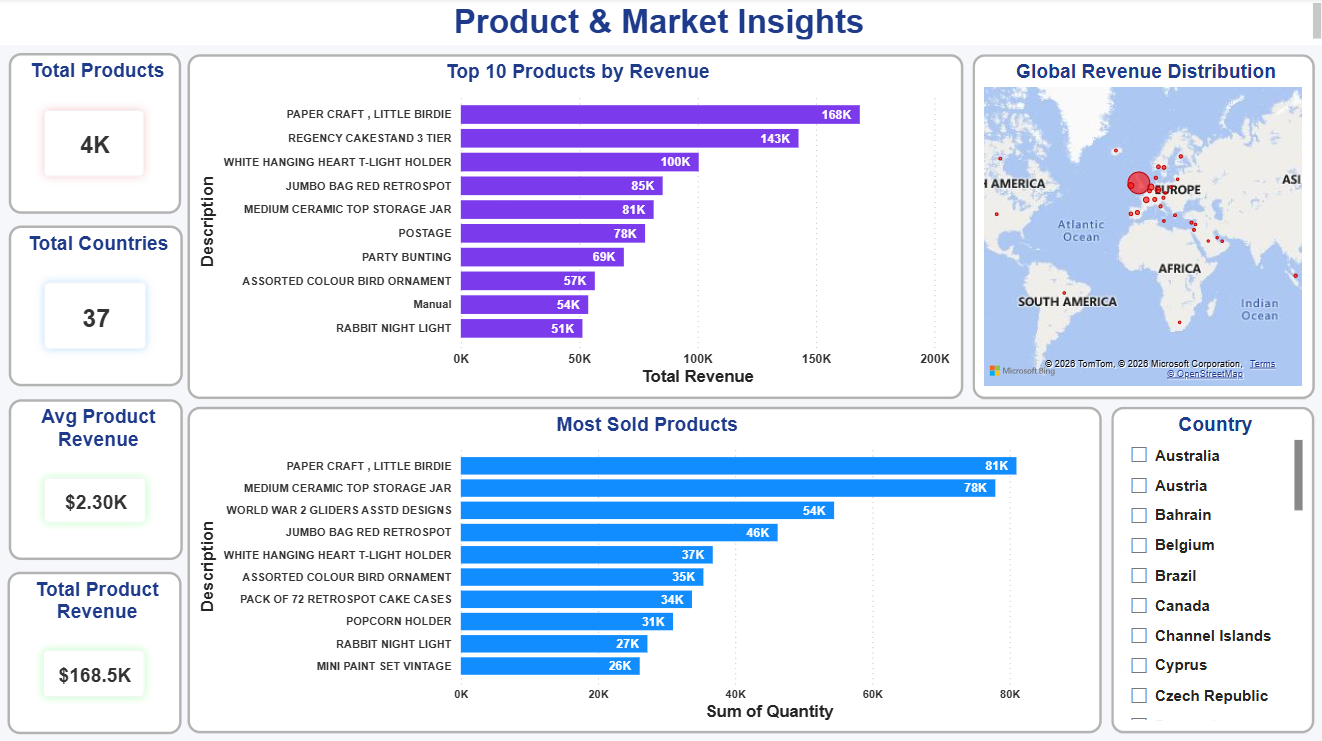

The page's visual inventory and layout, read from the dashboard file:
{"tool":"powerbi","page":{"name":"Product & Market Insights","canvas":[1280,720],"ordinal":2},"visuals":[{"type":"textbox","box":[0,0,1280.2,45.3],"z":0},{"type":"cardVisual","title":"Total Products","fields":{"Data":["cleaned ecommerce data.Total Products"]},"box":[8.3,53.3,166.7,155],"z":1000},{"type":"cardVisual","title":"Avg Product Revenue","fields":{"Data":["cleaned ecommerce data.Avg Product Revenue"]},"box":[8.3,386.7,168.3,155],"z":2000},{"type":"cardVisual","title":"Total Product Revenue","fields":{"Data":["cleaned ecommerce data.Top Product Revenue"]},"box":[6.7,553.3,168.3,156.7],"z":3000},{"type":"cardVisual","title":"Total Countries","fields":{"Data":["cleaned ecommerce data.Total Countries"]},"box":[8.3,220,168.3,155],"z":4000},{"type":"clusteredBarChart","title":"Top 10 Products by Revenue","fields":{"Category":["cleaned ecommerce data.Description"],"Y":["cleaned ecommerce data.Total Revenue"]},"box":[181.2,53.8,748.8,332.5],"z":5000},{"type":"clusteredBarChart","title":"Most Sold Products","fields":{"Category":["cleaned ecommerce data.Description"],"Y":["Sum(cleaned ecommerce data.Quantity)"]},"box":[181.2,395,882.5,315],"z":6000},{"type":"map","title":"Global Revenue Distribution","fields":{"Category":["cleaned ecommerce data.Country"],"Size":["cleaned ecommerce data.Total Revenue"]},"box":[938.8,53.8,330,332.5],"z":7000},{"type":"slicer","title":"Country","fields":{"Values":["cleaned ecommerce data.Country"]},"box":[1072.5,395,196.2,315],"z":8000}]}

Visuals, with their boxes in screenshot pixels (x1, y1, x2, y2), scaled from the page's 1280x720 canvas onto the 1322x741 screenshot:
textbox: 0,0,1321,47
"Total Products" cardVisual: 9,55,181,214
"Avg Product Revenue" cardVisual: 9,398,182,557
"Total Product Revenue" cardVisual: 7,569,181,731
"Total Countries" cardVisual: 9,226,182,386
"Top 10 Products by Revenue" clusteredBarChart: 187,55,961,398
"Most Sold Products" clusteredBarChart: 187,407,1099,731
"Global Revenue Distribution" map: 970,55,1310,398
"Country" slicer: 1108,407,1310,731
